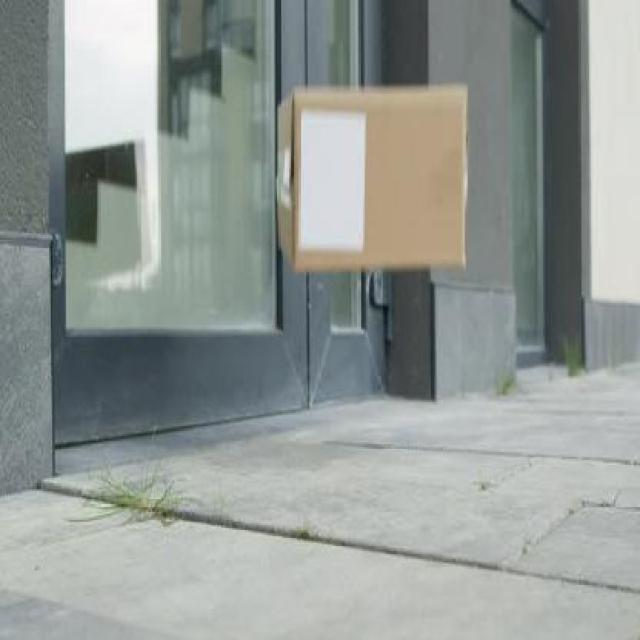box: (273, 61, 475, 312)
